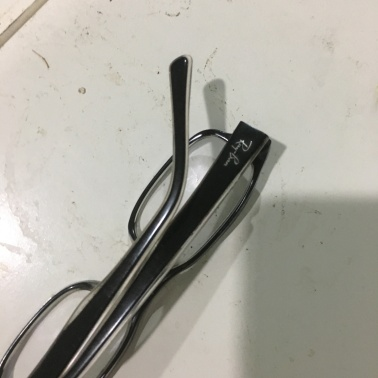glasses: (38, 142, 246, 360)
